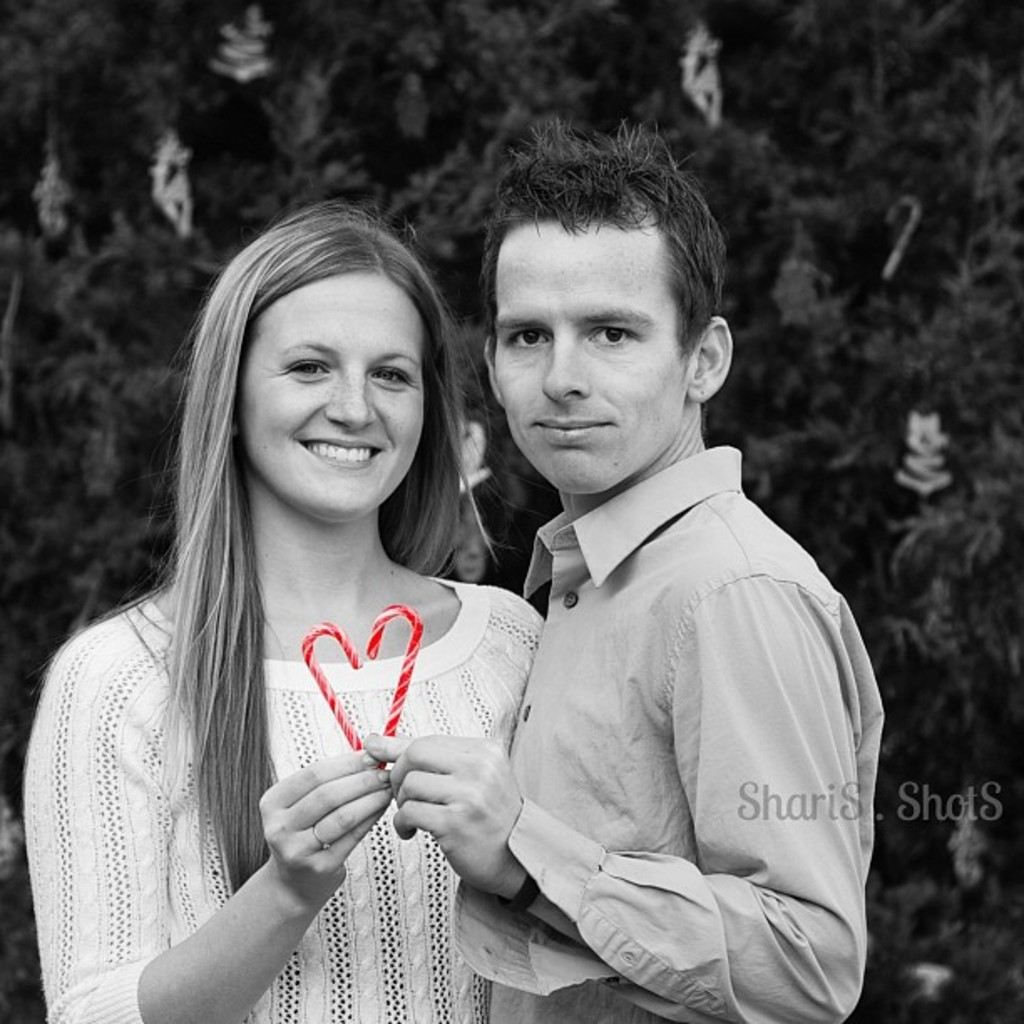Human_hand: (256, 746, 393, 915), (390, 740, 519, 897)
